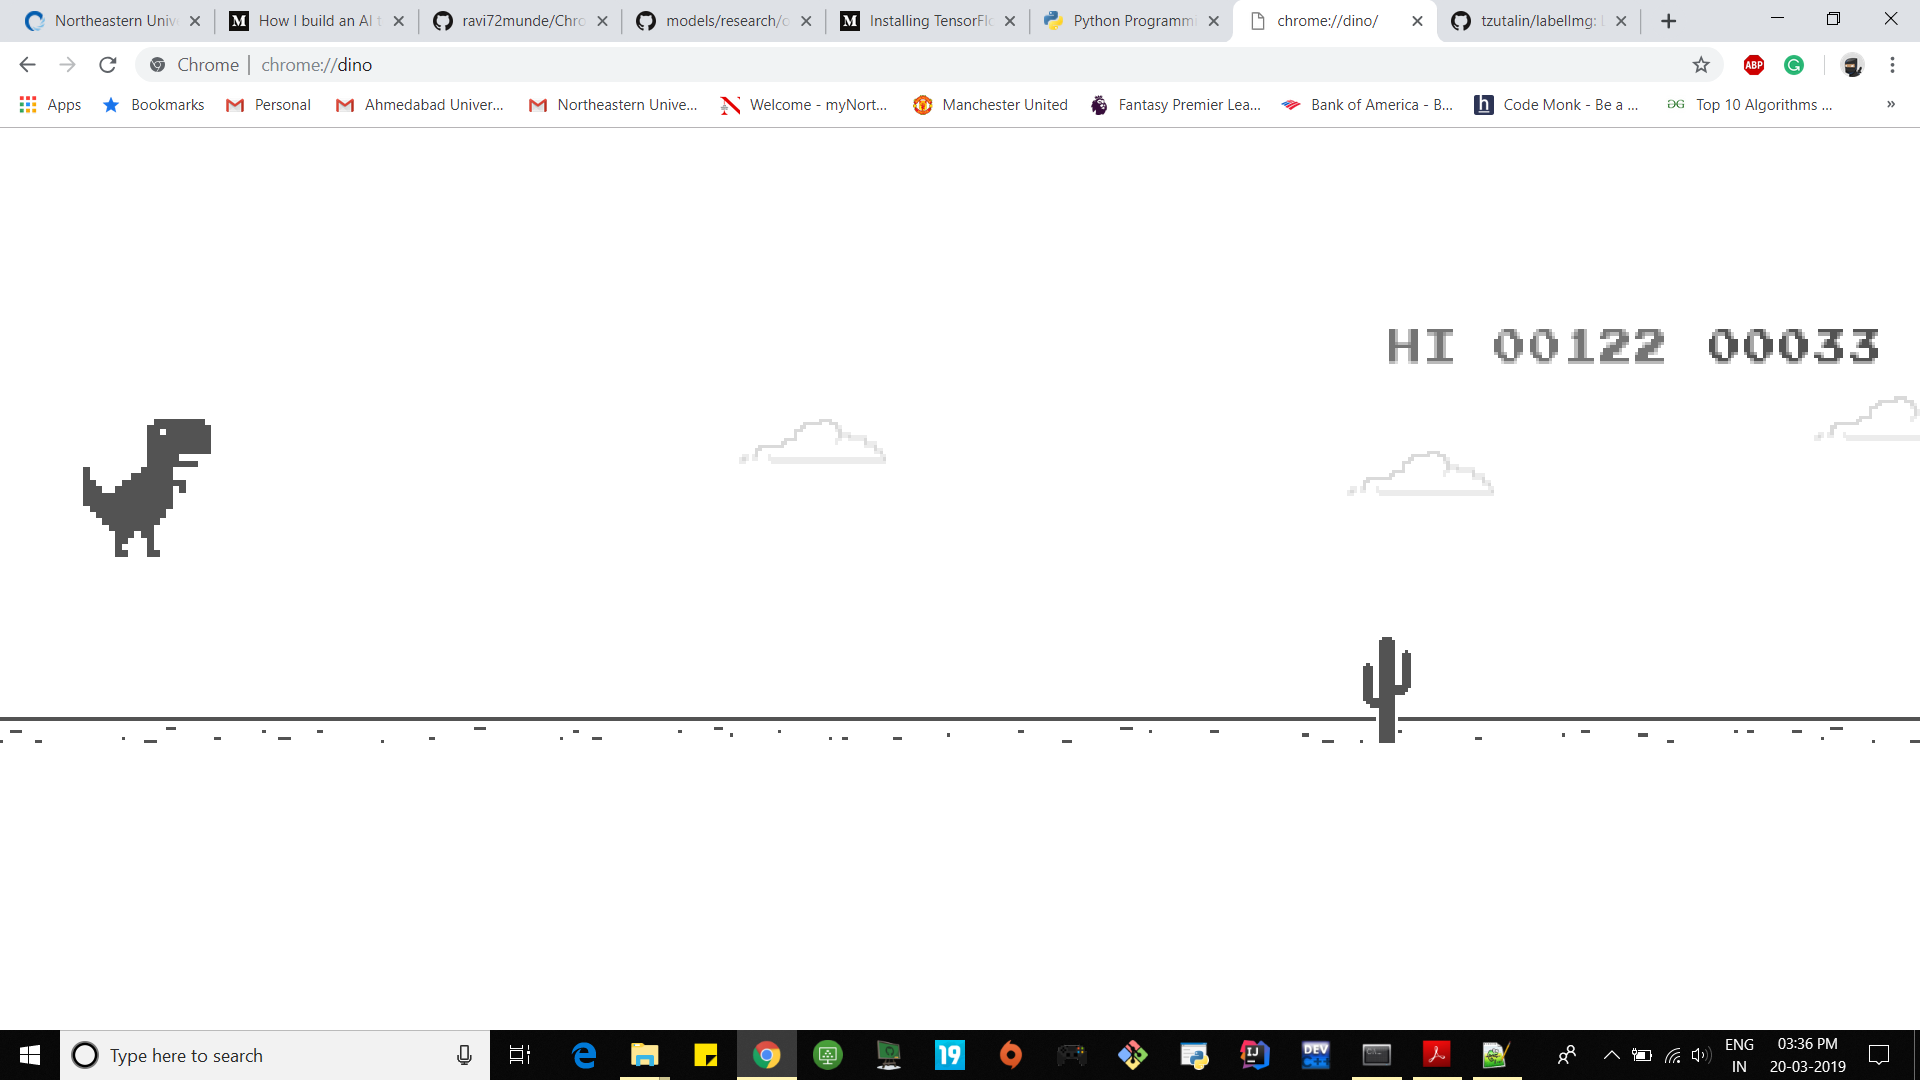cactus-1: (1357, 636, 1414, 741)
dino: (83, 415, 211, 567)
